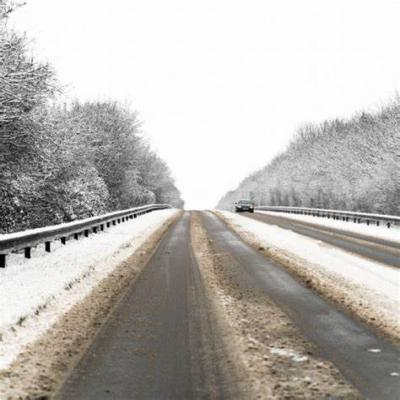iced-road: (201, 212, 400, 400), (55, 213, 251, 400)
